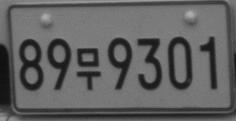0: (166, 36, 193, 90)
1: (196, 35, 224, 89)
3: (136, 37, 162, 90)
8: (18, 38, 44, 91)
9: (107, 36, 133, 90), (46, 37, 72, 90)
무: (76, 46, 101, 90)
